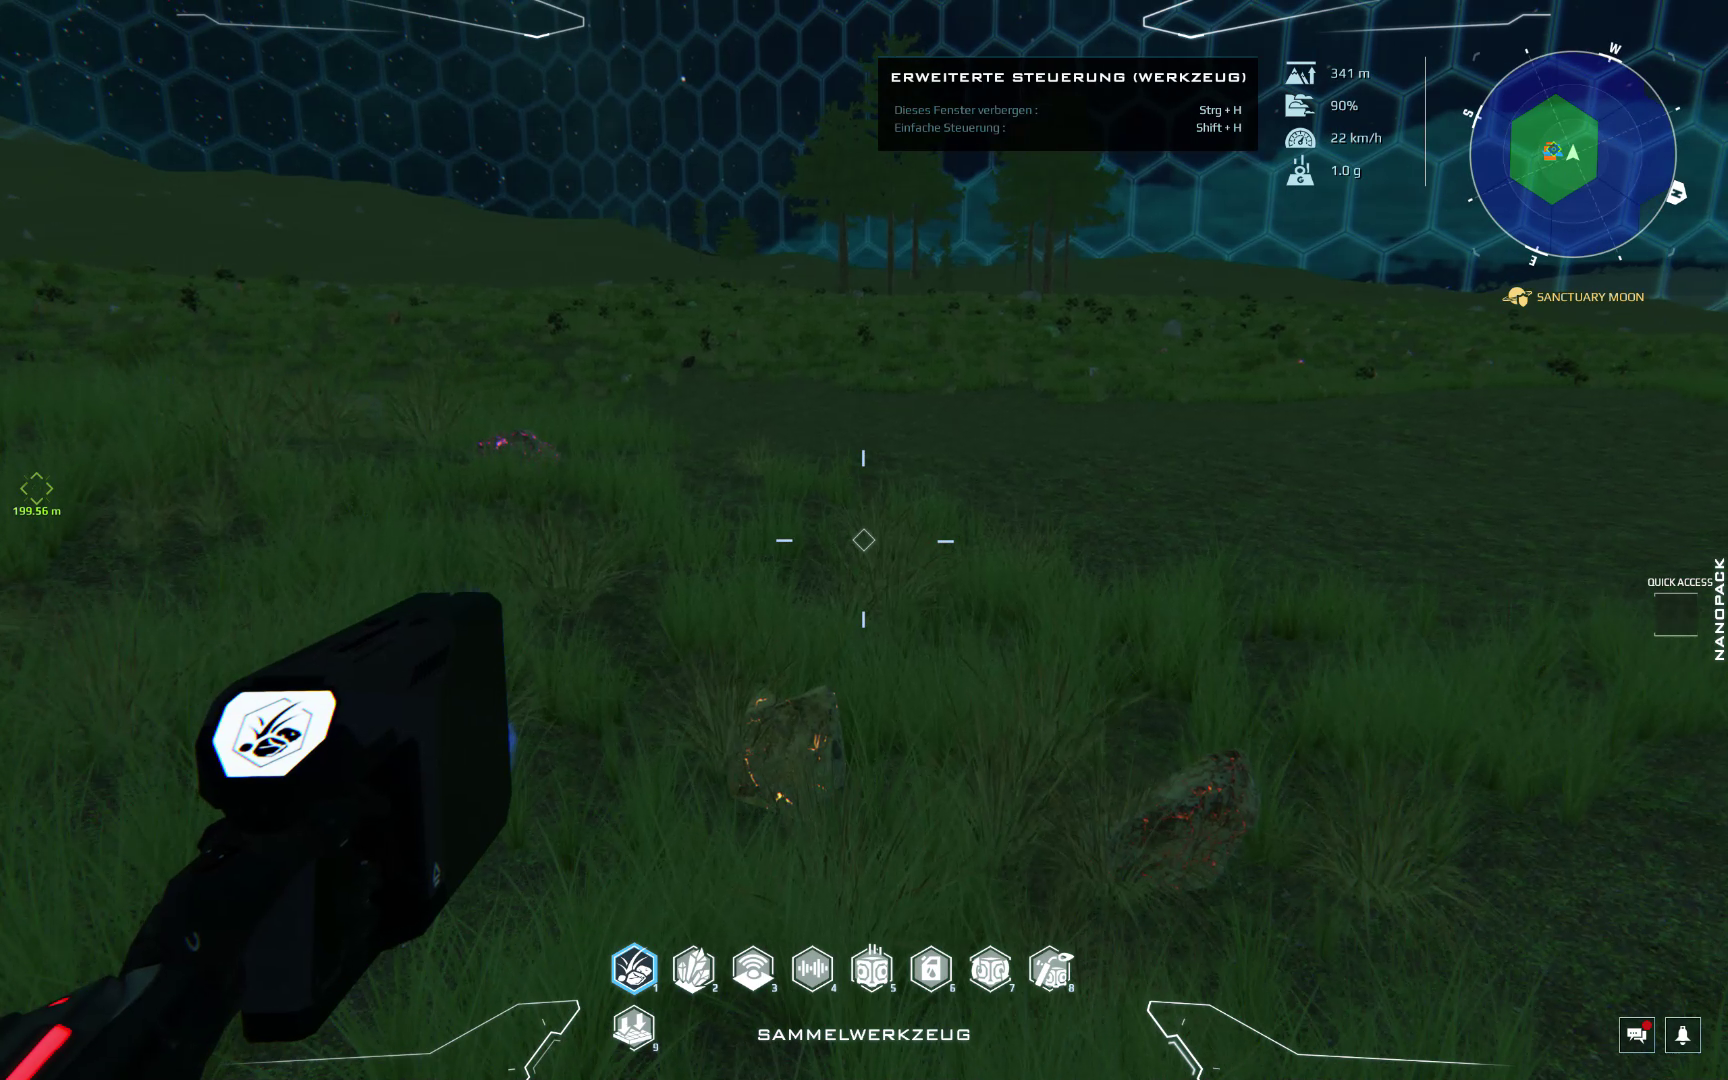Ore: (1099, 752, 1258, 900), (724, 682, 847, 826), (473, 426, 562, 467)
